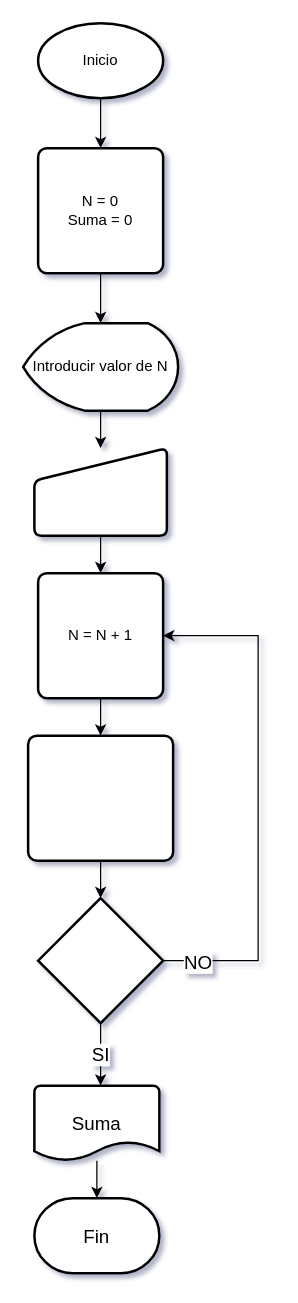
Some shapes in this 298 by 1303 pixel diagram are drawn without their labels. The shapes that lost their labels are listed below. From the top down, each one's box as (x1, y1, x2, y2) in pixels, then its label:
(32, 446, 168, 536): Leer valor de N
(26, 734, 174, 861): Suma = Suma + N
(36, 896, 164, 1024): N = 10
